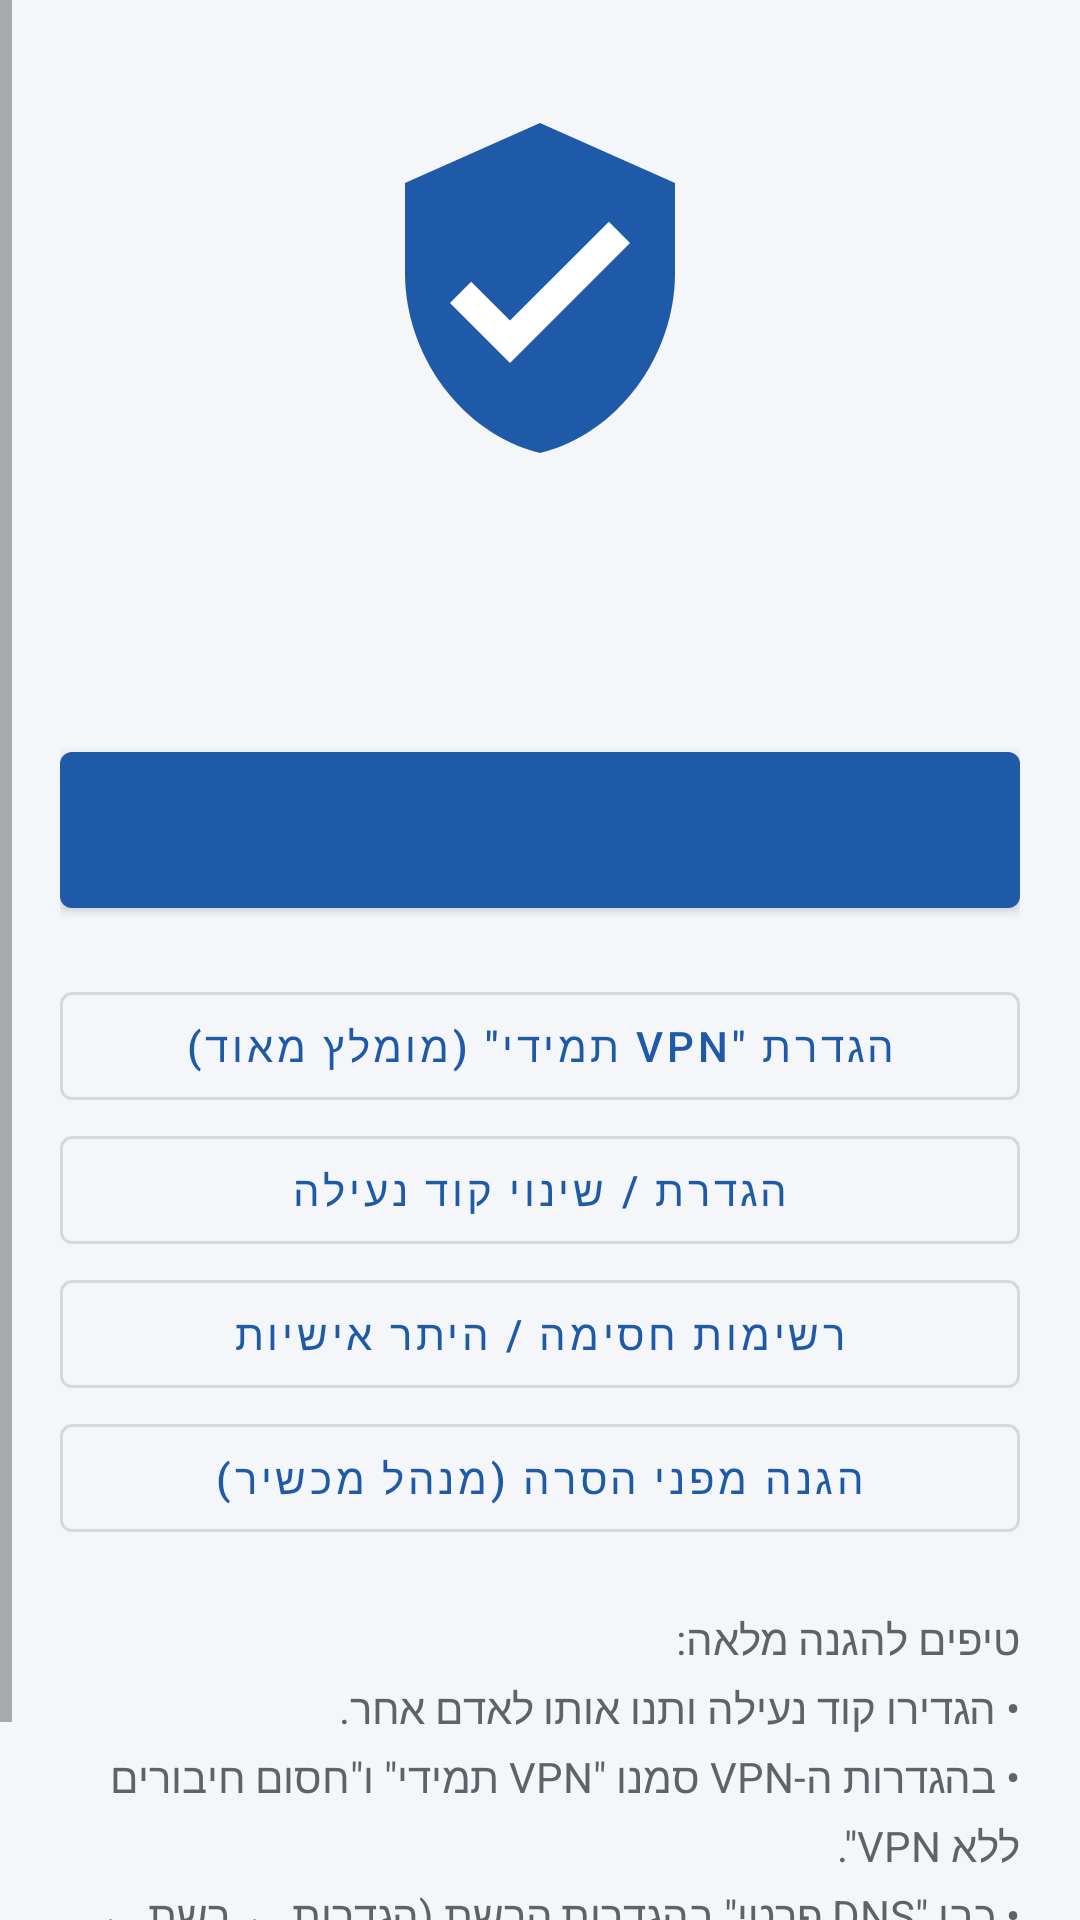

Named icons in this screenshot (1080*1920) and their bounding boxes, box=[x1, y1, x2, y2]:
shield: box=[405, 123, 675, 453]
